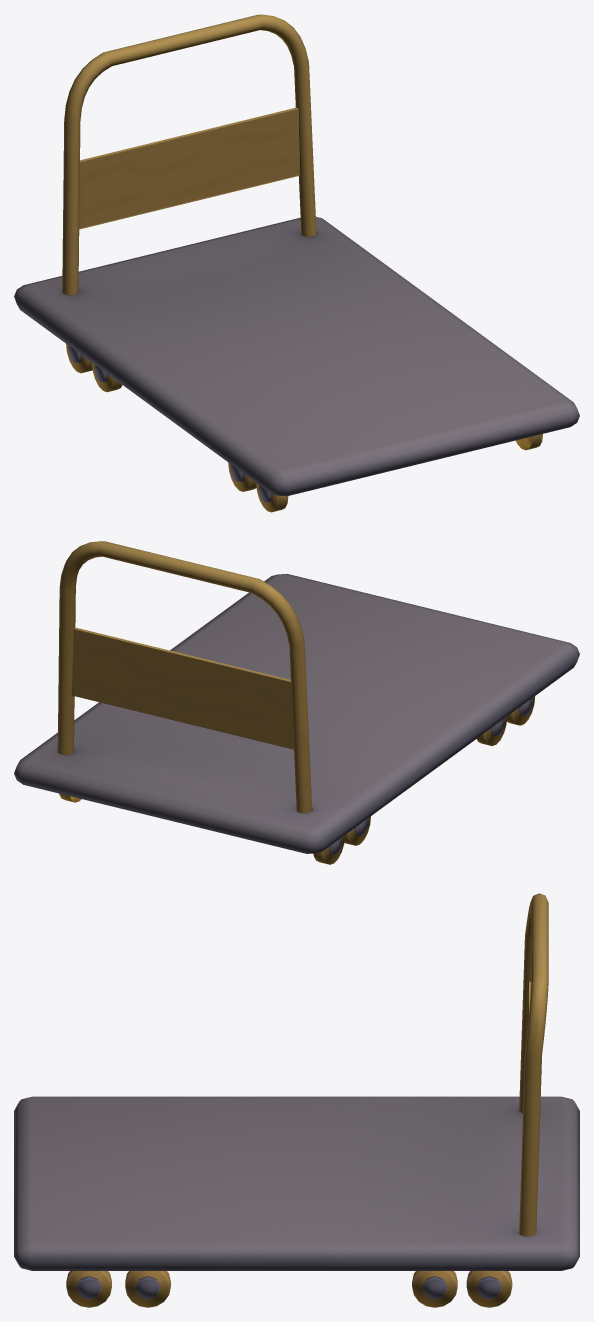
File: trolley_asset.fbx
3 views of the same model, one above another, from view 1: azimuth 30°, elevation 25°; view 2: azimuth 150°, elevation 25°; view 3: azimuth 270°, elevation 25° (orthographic). The views are drawn at different scales.
Parts seen in each view (by area): view 1: trolley; view 2: trolley, wheel4, wheel8, wheel3, wheel7; view 3: trolley, wheel1, wheel6, wheel5, wheel2.
Boxes of the visible parts, x1,y1,x2,y2 form: trolley: (14,14,579,496); trolley: (14,541,579,853); wheel4: (313,835,344,864); wheel8: (477,717,507,745); wheel3: (506,696,535,725); wheel7: (344,816,370,845); trolley: (14,893,579,1270); wheel1: (466,1271,512,1307); wheel6: (125,1271,170,1307); wheel5: (412,1271,457,1307); wheel2: (66,1271,111,1307).
Size of the model in its own units: 86.24 by 76.77 by 130.
Materials: 1 (1 with a texture image).
